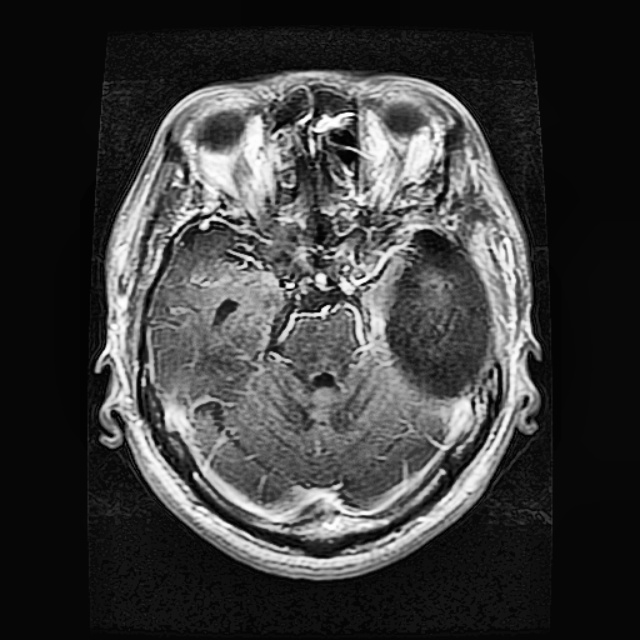Glioma: (385, 229, 498, 398)
